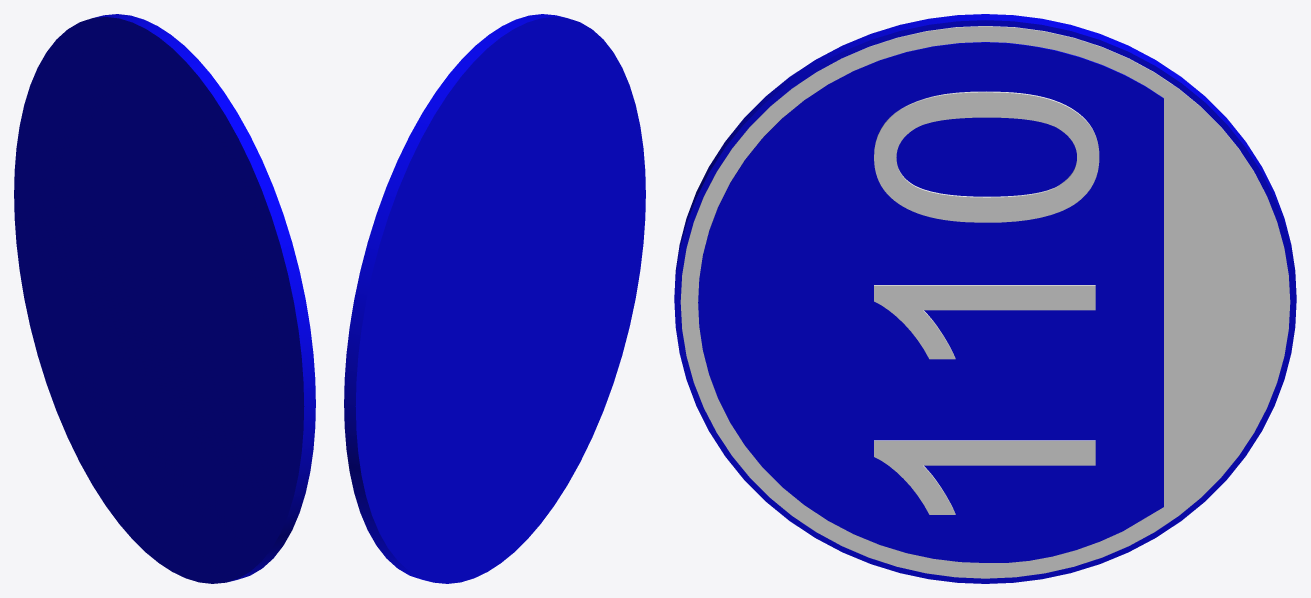
File: 最低限速110.gltf
3 views of the same model, side by side, from view 1: azimuth 30°, elevation 25°; view 2: azimuth 150°, elevation 25°; view 3: azimuth 270°, elevation 25° (orthographic). The views are drawn at different scales.
Parts seen in each view (by area): view 1: 最低时速限制110; view 2: 最低时速限制110; view 3: 最低时速限制110.
Boxes of the visible parts, x1,y1,x2,y2 form: 最低时速限制110: [14, 14, 315, 583]; 最低时速限制110: [344, 14, 645, 583]; 最低时速限制110: [674, 14, 1296, 583].
Size of the model in its own units: 0.023 by 0.7691 by 0.7691.
